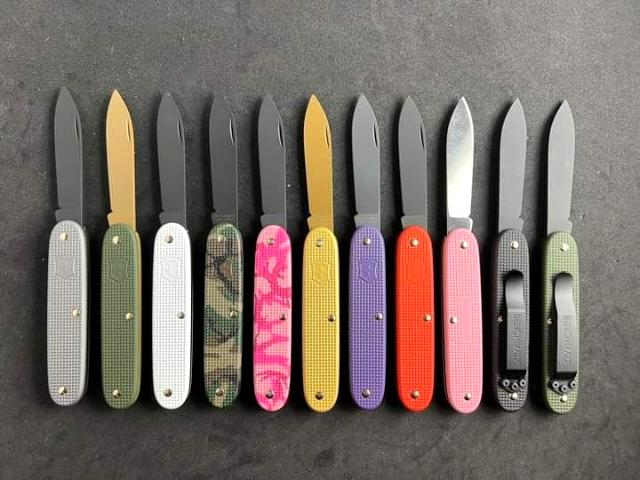pocket-knife: (94, 80, 148, 409), (242, 86, 296, 414), (41, 78, 93, 410), (438, 85, 489, 416), (390, 82, 440, 416), (296, 83, 346, 414), (194, 81, 243, 412), (536, 95, 586, 416), (147, 82, 193, 411), (346, 82, 390, 416), (490, 93, 534, 415)
